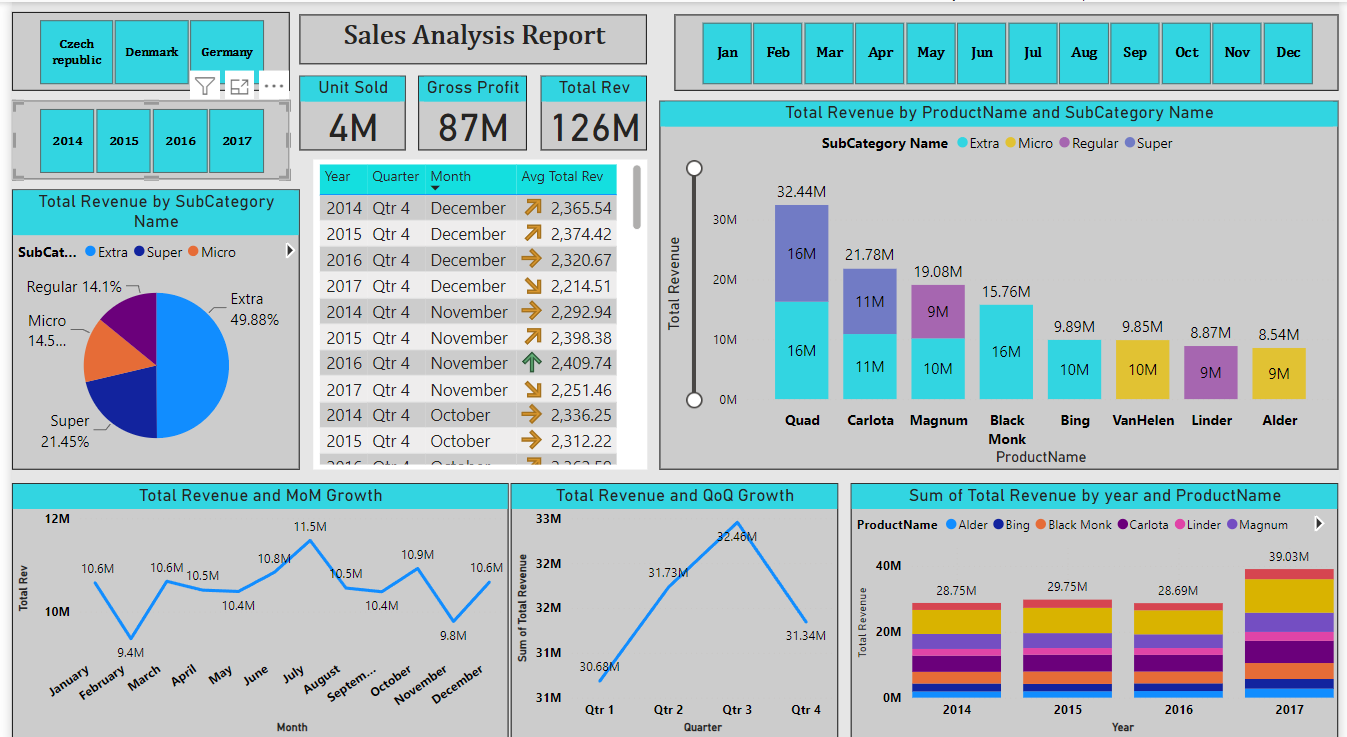

This screenshot's page, from the dashboard's own definition file:
{"tool":"powerbi","page":{"name":"Page 1","canvas":[1280,720],"ordinal":0},"visuals":[{"type":"textbox","box":[277.5,12.1,335.4,48.3],"z":0},{"type":"slicer","fields":{"Values":["Sales.Counrty"]},"box":[0,9.7,267.8,76],"z":1000},{"type":"slicer","fields":{"Values":["DateMaster.year"]},"box":[0,95.3,267.8,76],"z":2000},{"type":"slicer","fields":{"Values":["DateMaster.Month Name"]},"box":[639.4,12.1,640.6,73.6],"z":3000},{"type":"card","title":"Total Rev","fields":{"Values":["Sum(Sales.Total Revenue)"]},"box":[510.3,71.2,102.5,72.4],"z":4000},{"type":"card","title":"Gross Profit","fields":{"Values":["Sum(Sales.Gross Profit)"]},"box":[392.1,71.2,105,72.4],"z":5000},{"type":"card","title":"Unit Sold","fields":{"Values":["Sum(Sales.Units)"]},"box":[277.5,71.2,102.5,72.4],"z":6000},{"type":"pieChart","title":"Total Revenue by SubCategory Name","fields":{"Y":["Sum(Sales.Total Revenue)"],"Category":["SubCategory.SubCategory Name"]},"box":[0,181,277.5,270.2],"z":7000},{"type":"columnChart","title":"Total Revenue by ProductName and SubCategory Name","fields":{"Category":["Product.ProductName"],"Y":["Sum(Sales.Total Revenue)"],"Series":["SubCategory.SubCategory Name"]},"box":[624.9,95.3,655.1,355.9],"z":8000},{"type":"columnChart","fields":{"Category":["DateMaster.year"],"Y":["Sum(Sales.Total Revenue)"],"Series":["Product.ProductName"]},"box":[809.5,464.5,470.5,246.1],"z":9000},{"type":"lineChart","title":"Total Revenue and QoQ Growth","fields":{"Category":["DateMaster.Date.Variation.Date Hierarchy.Quarter"],"Y":["Sum(Sales.Total Revenue)"]},"box":[481.4,464.5,316.1,246.1],"z":10000},{"type":"lineChart","title":"Total Revenue and MoM Growth","fields":{"Category":["DateMaster.Date.Variation.Date Hierarchy.Month"],"Y":["DateMaster.Total Rev"]},"box":[0,464.5,479,246.1],"z":11000},{"type":"tableEx","fields":{"Values":["DateMaster.Date.Variation.Date Hierarchy.Year","DateMaster.Date.Variation.Date Hierarchy.Quarter","DateMaster.Date.Variation.Date Hierarchy.Month","Avg(Sales.Total Revenue)"]},"box":[290.8,152,322.1,299.2],"z":12000}]}

Visuals, with their boxes in screenshot pixels (x1, y1, x2, y2), scaled from the page's 1280x720 canvas onto the 1347x737 screenshot:
textbox: 292,12,645,62
slicer - Sales.Counrty: 0,10,282,88
slicer - DateMaster.year: 0,98,282,175
slicer - DateMaster.Month Name: 673,12,1346,88
"Total Rev" card: 537,73,645,147
"Gross Profit" card: 413,73,523,147
"Unit Sold" card: 292,73,400,147
"Total Revenue by SubCategory Name" pieChart: 0,185,292,462
"Total Revenue by ProductName and SubCategory Name" columnChart: 658,98,1346,462
columnChart - DateMaster.year x Sum(Sales.Total Revenue): 852,475,1346,727
"Total Revenue and QoQ Growth" lineChart: 507,475,839,727
"Total Revenue and MoM Growth" lineChart: 0,475,504,727
tableEx - DateMaster.Date.Variation.Date Hierarchy.Year x DateMaster.Date.Variation.Date Hierarchy.Quarter: 306,156,645,462
